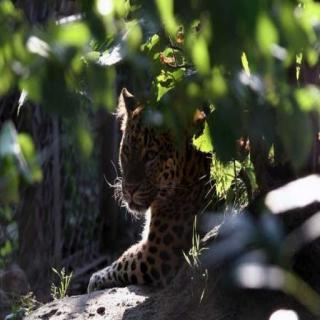Leopard: (90, 76, 212, 296)
